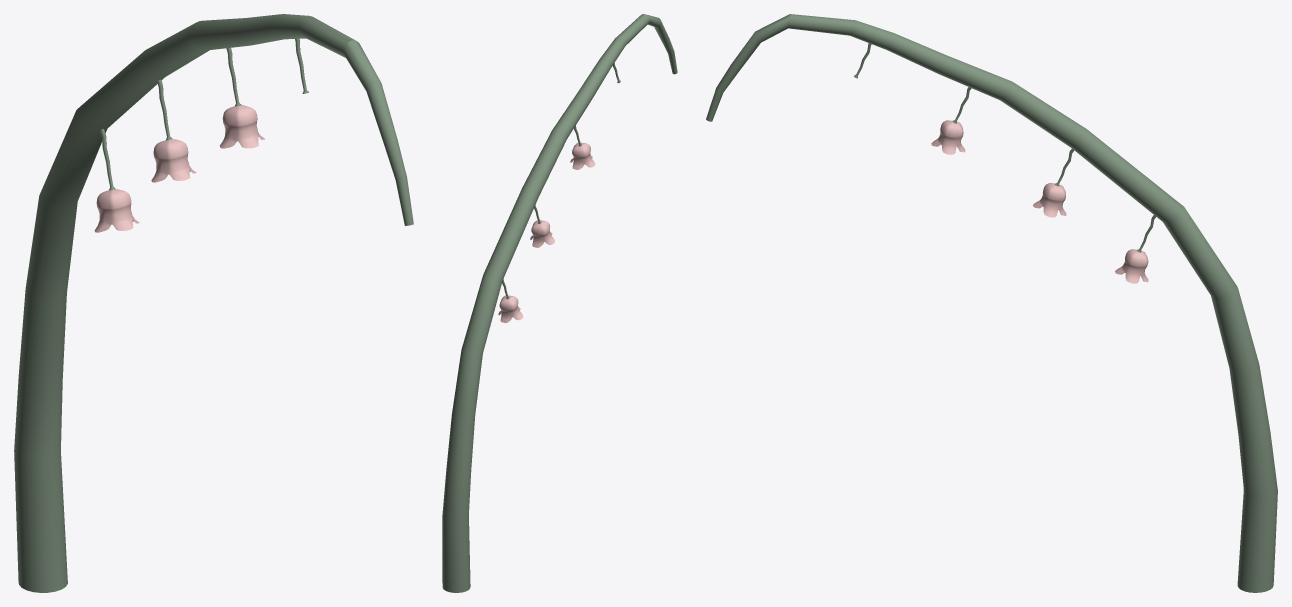
The model's file is lily4.fbx.
The picture shows the model from 3 angles, left to right: view 1: azimuth 30°, elevation 25°; view 2: azimuth 150°, elevation 25°; view 3: azimuth 270°, elevation 25°; orthographic projection. The views are drawn at different scales.
Parts seen in each view (by area): view 1: polySurface2, polySurface1, polySurface5, polySurface8; view 2: polySurface2, polySurface8, polySurface5, polySurface1; view 3: polySurface2, polySurface1, polySurface8, polySurface5.
Boxes of the visible parts, x1,y1,x2,y2 form: polySurface2: (14, 14, 413, 592); polySurface1: (219, 105, 264, 148); polySurface5: (151, 139, 196, 182); polySurface8: (94, 189, 139, 232); polySurface2: (442, 14, 677, 592); polySurface8: (498, 295, 523, 323); polySurface5: (530, 220, 554, 247); polySurface1: (570, 142, 595, 169); polySurface2: (706, 14, 1277, 592); polySurface1: (931, 120, 965, 154); polySurface8: (1115, 249, 1148, 283); polySurface5: (1033, 183, 1066, 217).
Bounding box in the file's own units: 0.2491 × 3.4 × 3.11.
